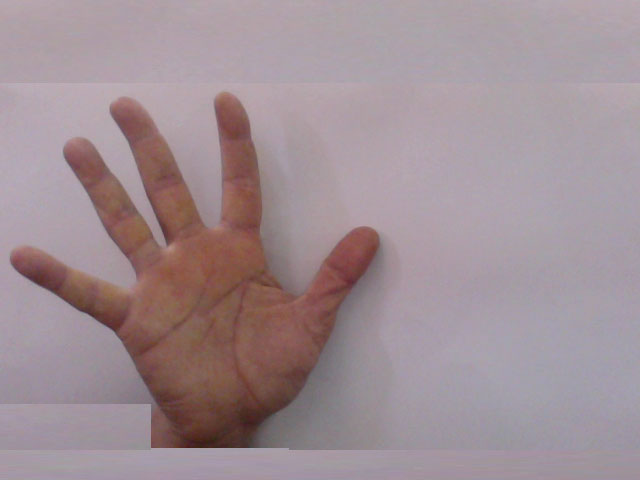hand: (8, 87, 391, 424)
